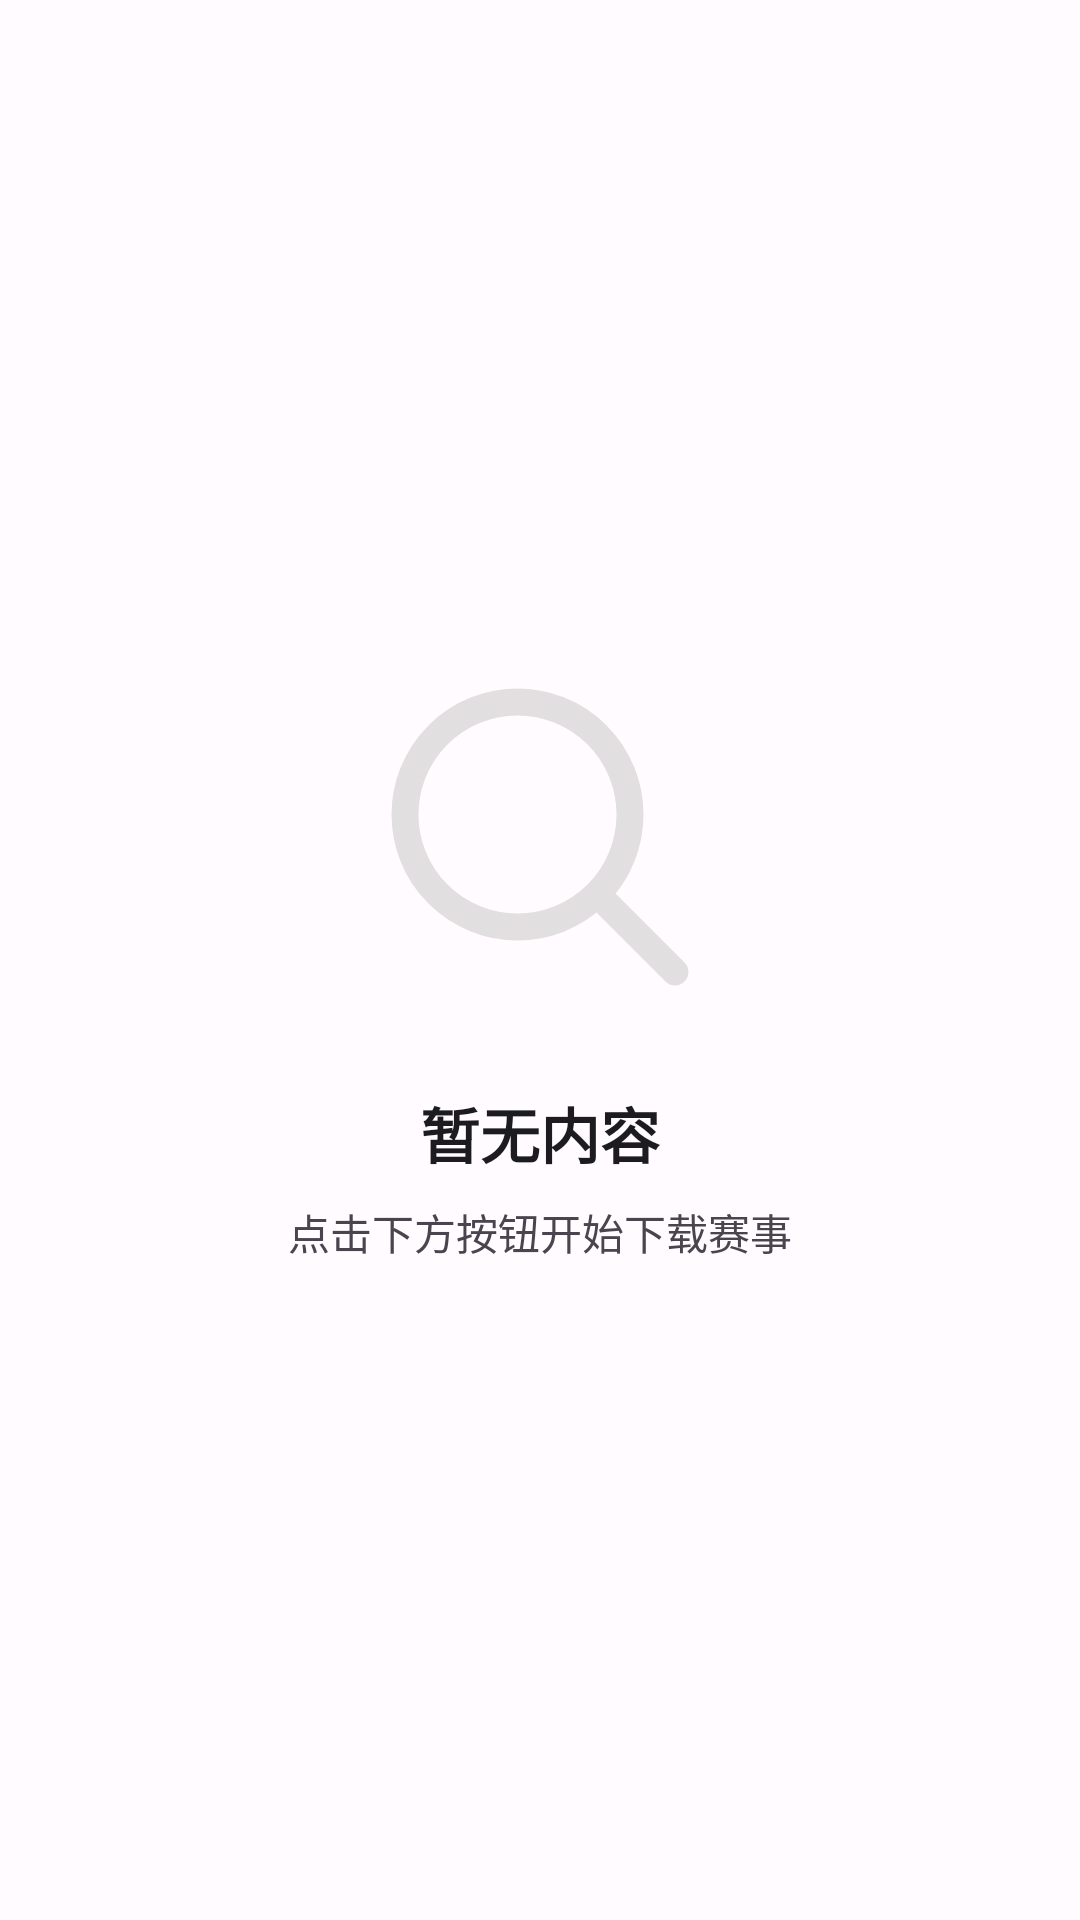

Screen size 1080px×1920px. Icon name, then its center in pixels as (x=x, y=y):
空状态图标: (x=540, y=837)
